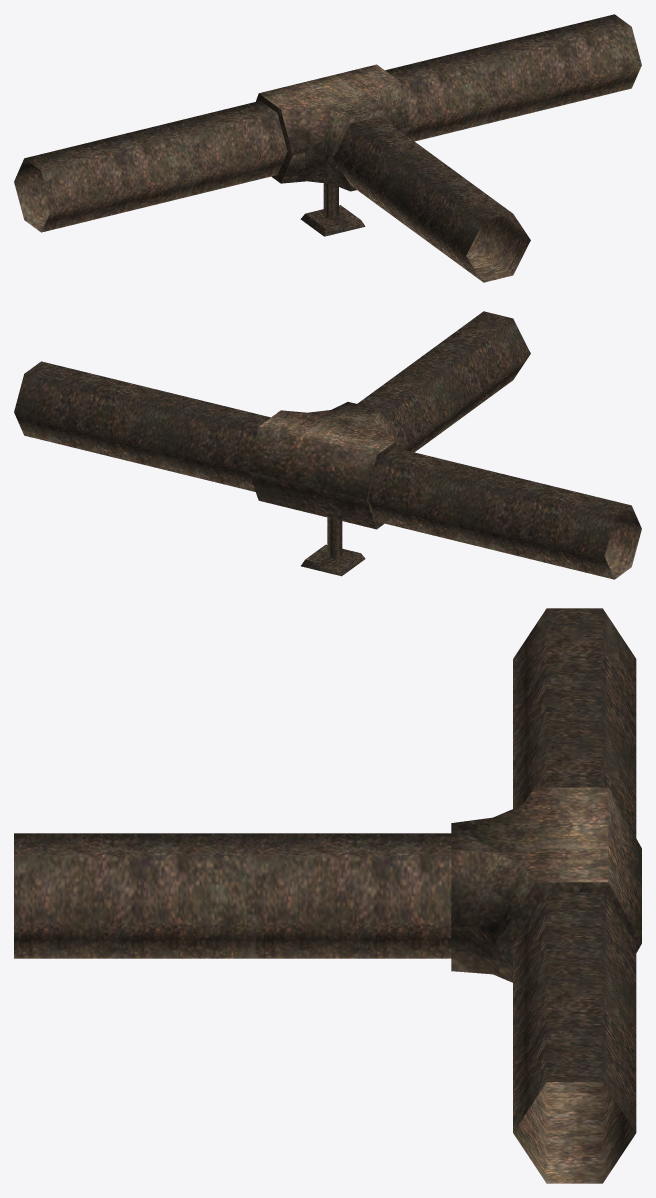
The model's file is pipes_ceiling_t_support.fbx.
3 renders of one model, top to bottom at view 1: azimuth 30°, elevation 25°; view 2: azimuth 150°, elevation 25°; view 3: azimuth 270°, elevation 25°, orthographic. The views are drawn at different scales.
Visible parts, largest first — view 1: mesh_0; view 2: mesh_0; view 3: mesh_0.
Boxes of the visible parts, x1,y1,x2,y2 form: mesh_0: [14, 14, 641, 282]; mesh_0: [14, 311, 641, 579]; mesh_0: [14, 608, 641, 1183].
Size of the model in its own units: 200 by 43 by 112.
1 material, 1 textured.
